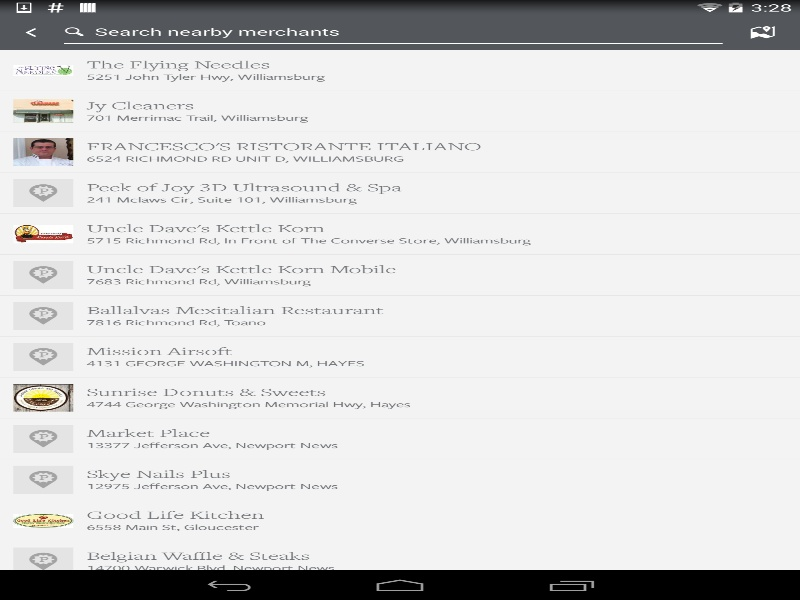Input: (85, 14, 680, 49)
